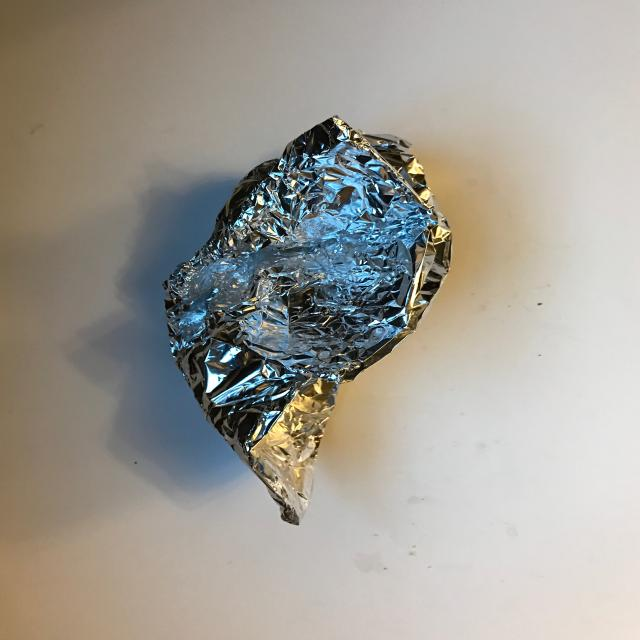metal: (162, 114, 453, 525)
